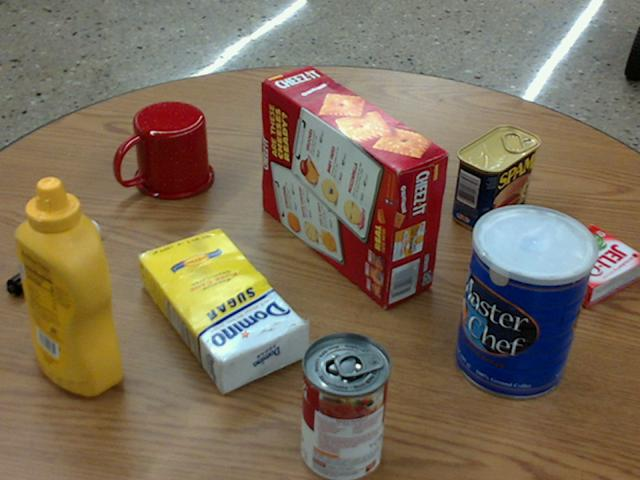cracker_box: (261, 66, 446, 307)
gelatin_box: (535, 223, 639, 306)
large_marker: (7, 219, 99, 292)
master_chef_can: (455, 205, 596, 398)
mug: (114, 101, 213, 198)
mustard_bottle: (13, 176, 120, 393)
potted_meat_can: (453, 125, 540, 231)
sugar_box: (137, 226, 306, 393)
tomato_soup_can: (299, 333, 389, 479)
tuna_fish_can: (284, 80, 356, 152)
